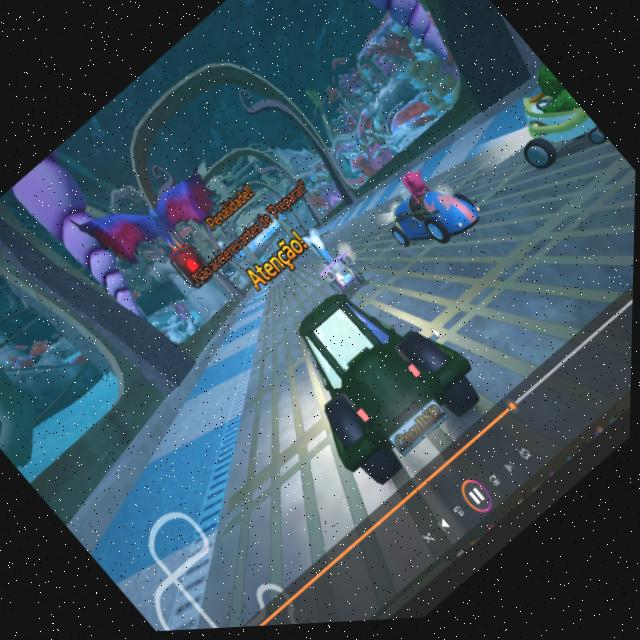enemy_kart: (371, 160, 493, 286), (495, 75, 612, 198)
player_kart: (245, 242, 501, 509)
